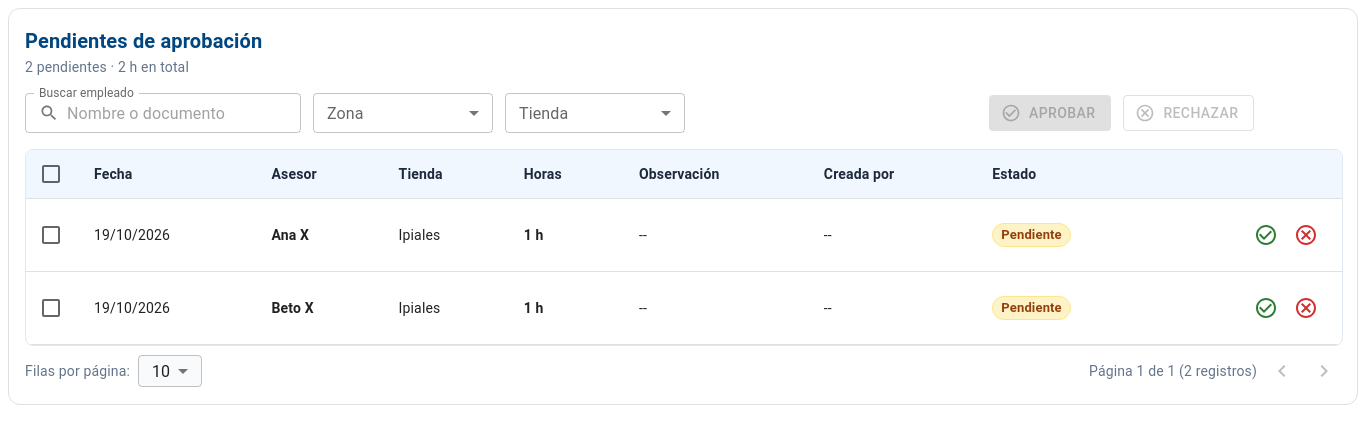
Scenario: AprobacionPage › el buscador acota lo que se ve y lo que se aprueba en lote
Expected: the text "Ana X" is shown, [272,227,309,243]
Type "beto" into the field labelled "Buscar empleado" at (184, 113), box [67,93,301,133]
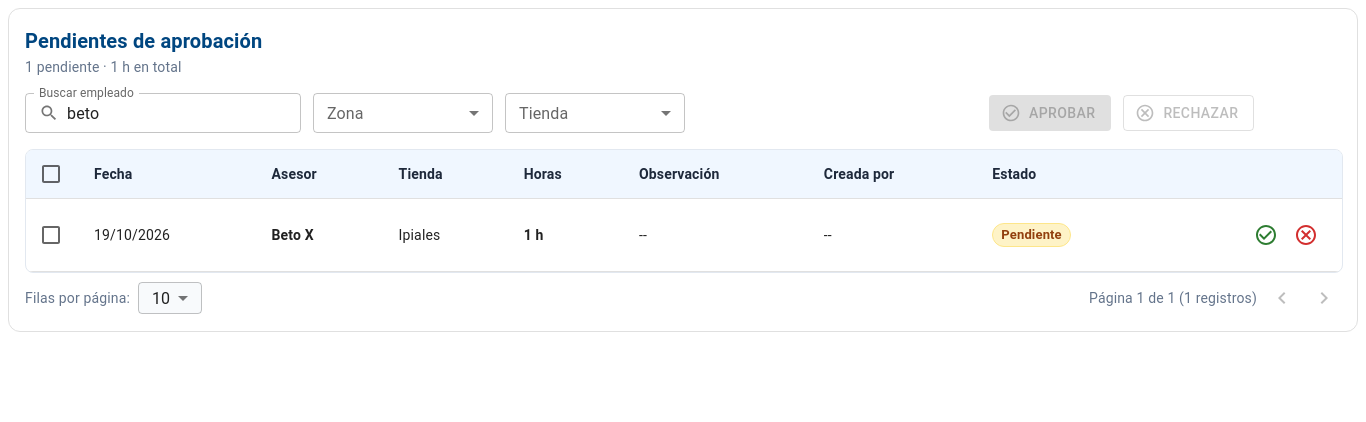
Expected: the text "Ana X" is gone
Expected: the text "1 pendiente · 1 h en total" is shown, [25,59,182,75]
